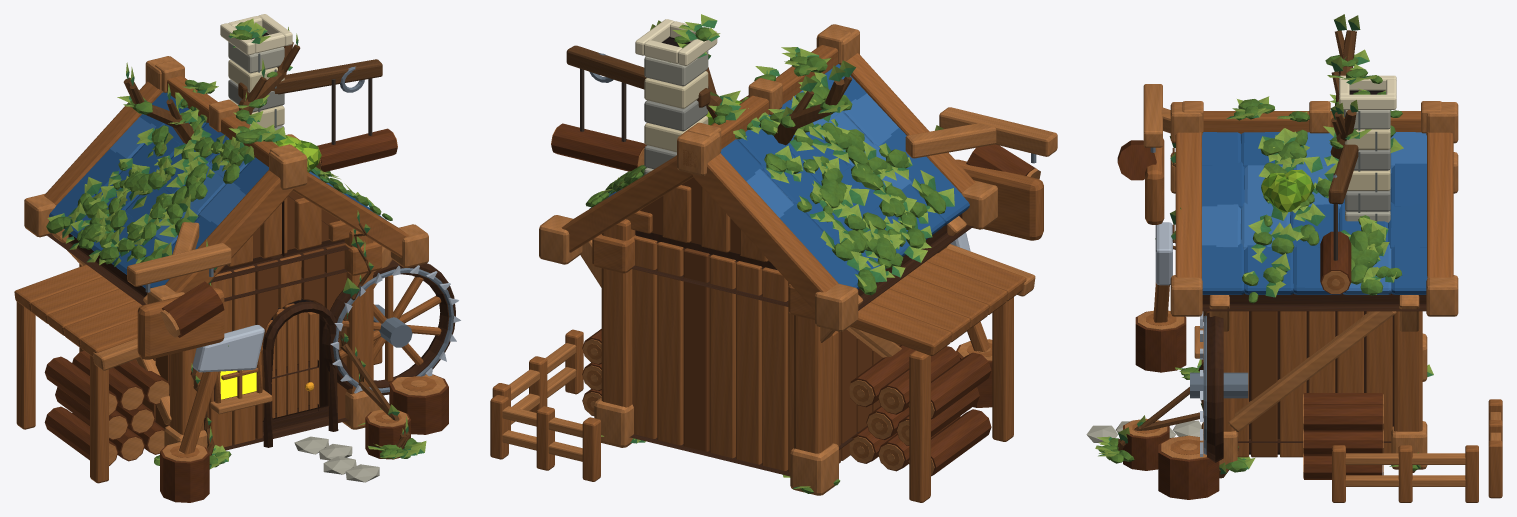
File: woodcutter_hut.glb
3 views of the same model, side by side, from view 1: azimuth 30°, elevation 25°; view 2: azimuth 150°, elevation 25°; view 3: azimuth 270°, elevation 25° (orthographic). The views are drawn at different scales.
Parts seen in each view (by area): view 1: Runtime surface 003, Runtime surface 009, Runtime surface 016, Runtime surface 010, Runtime surface 029, Runtime surface 028, Runtime surface 019, Runtime surface 025, Runtime surface 023, Runtime surface 027, Runtime surface 002, Runtime surface 020 (+10 smaller); view 2: Runtime surface 003, Runtime surface 009, Runtime surface 016, Runtime surface 029, Runtime surface 019, Runtime surface 023, Runtime surface 028, Runtime surface 010, Runtime surface 027, Runtime surface 025, Runtime surface 002, Runtime surface 020 (+6 smaller); view 3: Runtime surface 003, Runtime surface 009, Runtime surface 019, Runtime surface 016, Runtime surface 010, Runtime surface 029, Runtime surface 020, Runtime surface 028, Runtime surface 025, Runtime surface 023, Runtime surface 027, Runtime surface 006 (+10 smaller).
Boxes of the visible parts, left/top/right/bottom form: Runtime surface 003: left=14, top=76, right=441, bottom=483; Runtime surface 009: left=24, top=56, right=446, bottom=465; Runtime surface 016: left=44, top=128, right=448, bottom=502; Runtime surface 010: left=45, top=196, right=455, bottom=450; Runtime surface 029: left=46, top=22, right=420, bottom=467; Runtime surface 028: left=47, top=18, right=426, bottom=469; Runtime surface 019: left=49, top=92, right=386, bottom=288; Runtime surface 025: left=123, top=42, right=410, bottom=455; Runtime surface 023: left=142, top=191, right=346, bottom=445; Runtime surface 027: left=61, top=25, right=424, bottom=469; Runtime surface 002: left=137, top=288, right=224, bottom=359; Runtime surface 020: left=110, top=117, right=344, bottom=244; Runtime surface 003: left=490, top=45, right=1026, bottom=502; Runtime surface 009: left=502, top=24, right=1057, bottom=495; Runtime surface 016: left=551, top=123, right=992, bottom=476; Runtime surface 029: left=585, top=27, right=945, bottom=493; Runtime surface 019: left=642, top=64, right=969, bottom=289; Runtime surface 023: left=640, top=177, right=900, bottom=463; Runtime surface 028: left=588, top=14, right=954, bottom=489; Runtime surface 010: left=629, top=213, right=973, bottom=476; Runtime surface 027: left=589, top=20, right=954, bottom=488; Runtime surface 025: left=566, top=45, right=851, bottom=145; Runtime surface 002: left=955, top=159, right=1043, bottom=240; Runtime surface 020: left=589, top=90, right=912, bottom=217; Runtime surface 003: left=1132, top=111, right=1502, bottom=502; Runtime surface 009: left=1125, top=84, right=1501, bottom=486; Runtime surface 019: left=1202, top=132, right=1427, bottom=294; Runtime surface 016: left=1123, top=231, right=1382, bottom=499; Runtime surface 010: left=1202, top=293, right=1426, bottom=462; Runtime surface 029: left=1098, top=55, right=1418, bottom=472; Runtime surface 020: left=1202, top=132, right=1426, bottom=294; Runtime surface 028: left=1095, top=14, right=1433, bottom=472; Runtime surface 025: left=1118, top=30, right=1415, bottom=478; Runtime surface 023: left=1251, top=311, right=1277, bottom=457; Runtime surface 027: left=1098, top=20, right=1433, bottom=474; Runtime surface 006: left=1086, top=110, right=1390, bottom=442.
Size of the model in its own units: 4.4 by 4.18 by 4.22.
25 materials, 8 textured.
